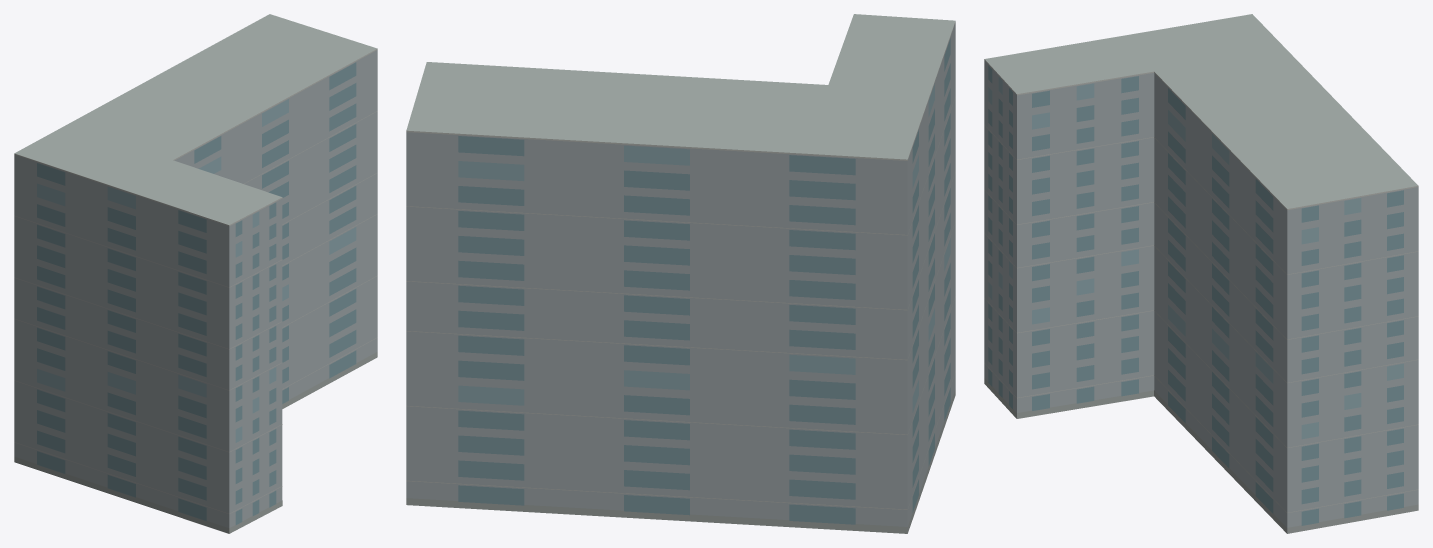
Rendered from residential-16995f44-c750-4dc2-bf62-af6d7f60f35b.glb.
3 views of the same model, side by side, from view 1: azimuth 30°, elevation 25°; view 2: azimuth 150°, elevation 25°; view 3: azimuth 270°, elevation 25° (orthographic). The views are drawn at different scales.
Parts seen in each view (by area): view 1: residential-16995f44-c750-4dc2-bf62-af6d7f60f35b.tmp; view 2: residential-16995f44-c750-4dc2-bf62-af6d7f60f35b.tmp; view 3: residential-16995f44-c750-4dc2-bf62-af6d7f60f35b.tmp.
Boxes of the visible parts, <box> form: residential-16995f44-c750-4dc2-bf62-af6d7f60f35b.tmp: <box>14,14,377,533</box>; residential-16995f44-c750-4dc2-bf62-af6d7f60f35b.tmp: <box>406,14,955,533</box>; residential-16995f44-c750-4dc2-bf62-af6d7f60f35b.tmp: <box>984,14,1418,533</box>.
Bounding box in the file's own units: 82.47 × 64 × 77.53.
